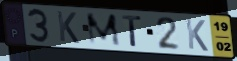2: (155, 16, 182, 50)
3: (26, 7, 50, 44)
K: (55, 10, 81, 46), (184, 17, 210, 53)
M: (85, 13, 123, 47)
T: (121, 14, 143, 48)
